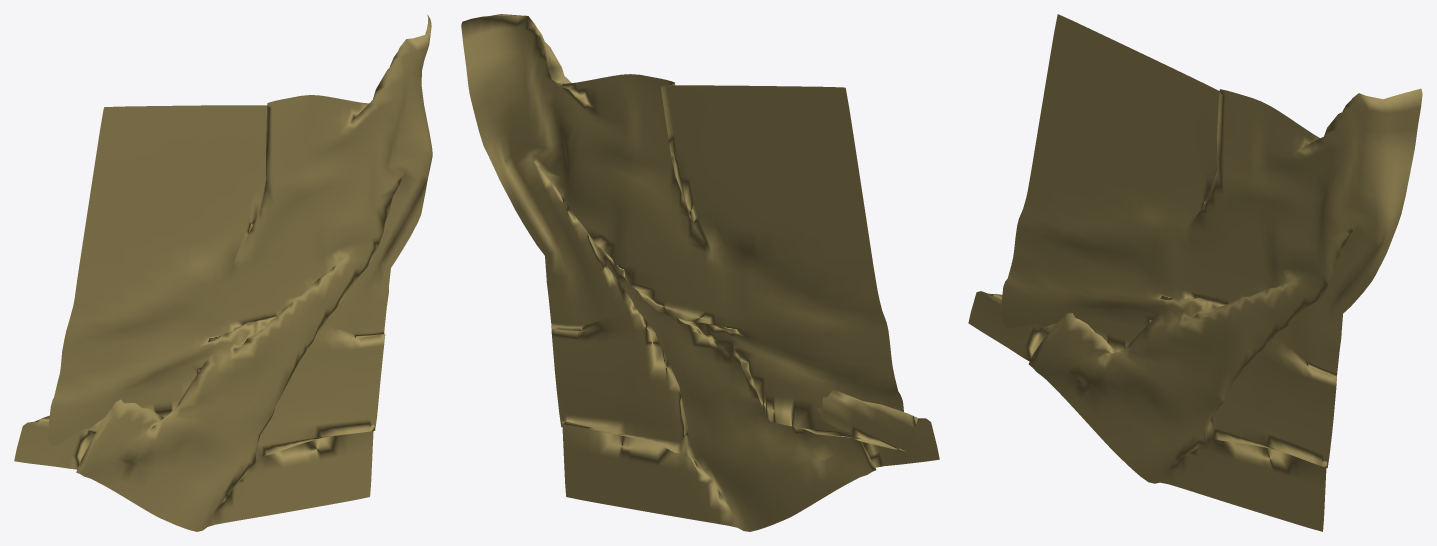
Rendered from BedsheetUnmade_30ABedsheetUnmade_4_2.obj.
The picture shows the model from 3 angles, left to right: view 1: azimuth 30°, elevation 25°; view 2: azimuth 150°, elevation 25°; view 3: azimuth 330°, elevation 25°; orthographic projection. The views are drawn at different scales.
Visible parts, largest first — view 1: BedsheetUnmade_4; view 2: BedsheetUnmade_4; view 3: BedsheetUnmade_4.
Part boxes in pixels (<box>): BedsheetUnmade_4: <box>14,14,432,531</box>; BedsheetUnmade_4: <box>461,14,939,531</box>; BedsheetUnmade_4: <box>968,14,1422,531</box>.
Bounding box in the file's own units: 1.99 × 1.99 × 0.2064.
